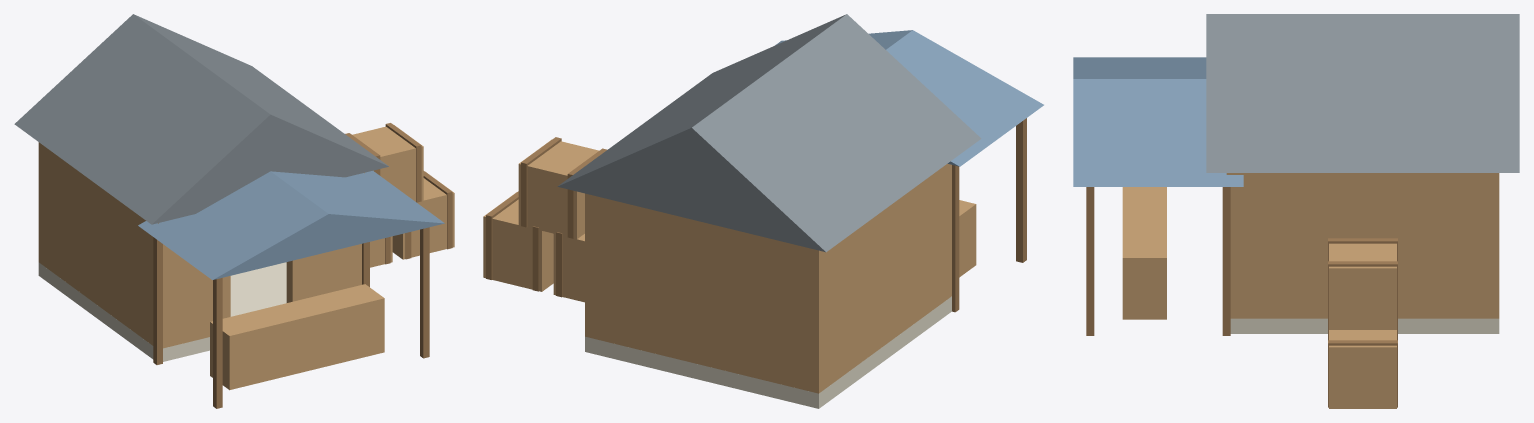
Rendered from trading-post.glb.
3 renders of one model, left to right at view 1: azimuth 30°, elevation 25°; view 2: azimuth 150°, elevation 25°; view 3: azimuth 270°, elevation 25°, orthographic. The views are drawn at different scales.
Parts seen in each view (by area): view 1: trading-post; view 2: trading-post; view 3: trading-post.
Boxes of the visible parts, left/top/right/bottom form: trading-post: left=14, top=14, right=454, bottom=408; trading-post: left=483, top=14, right=1043, bottom=408; trading-post: left=1073, top=14, right=1519, bottom=408.
Size of the model in its own units: 6.9 by 4.25 by 6.55.
